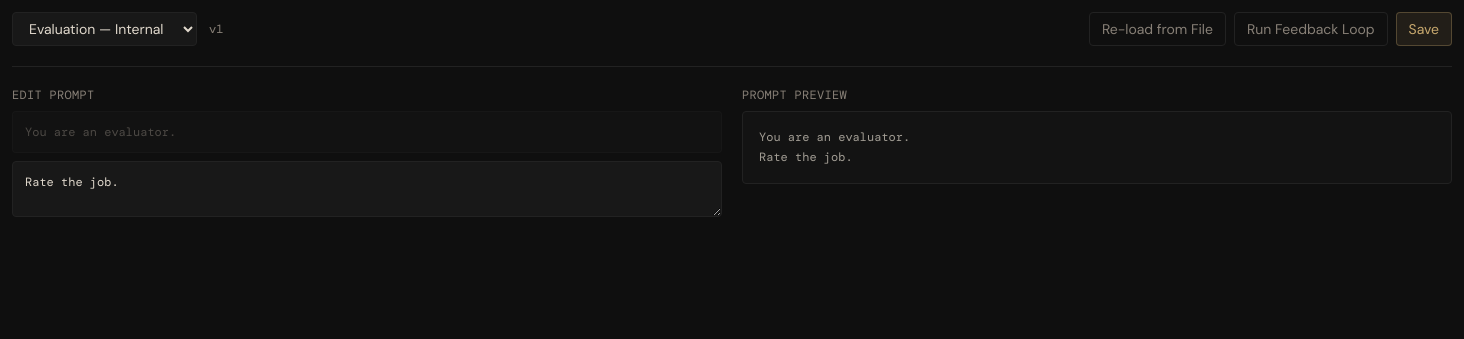
Scenario: PromptEditor › feedback loop › dismiss button hides suggestions panel
Click the button "Run Feedback Loop": x=1311, y=29 [1234, 12, 1388, 46]
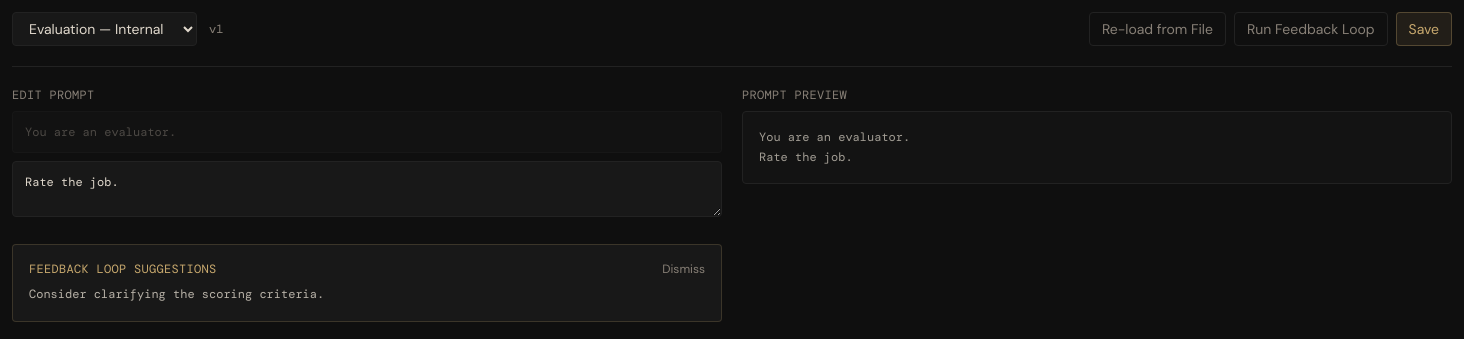
Result: the text "Consider clarifying the scoring criteria." is shown at [29, 286, 324, 302]
Click the button "Dismiss": x=684, y=269 [662, 261, 705, 277]
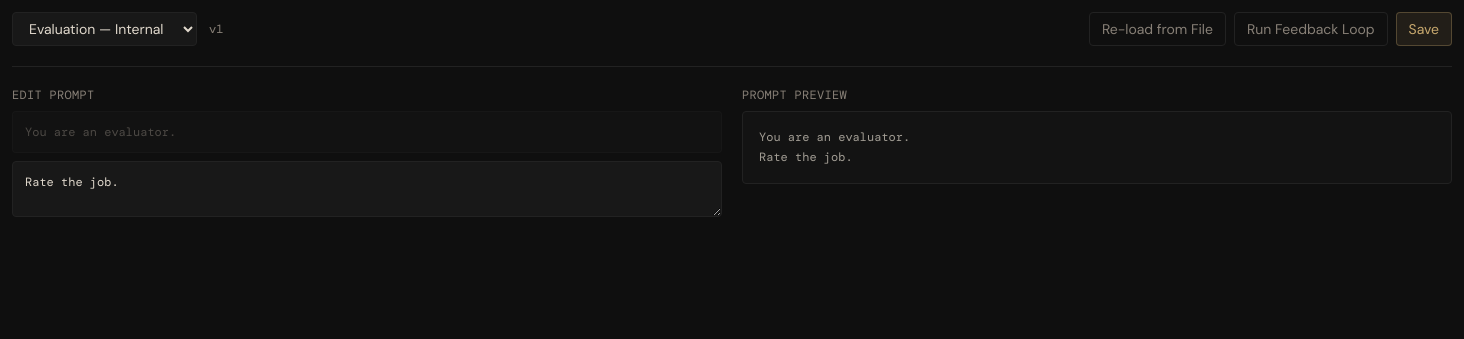
Result: the text "Consider clarifying the scoring criteria." is gone
